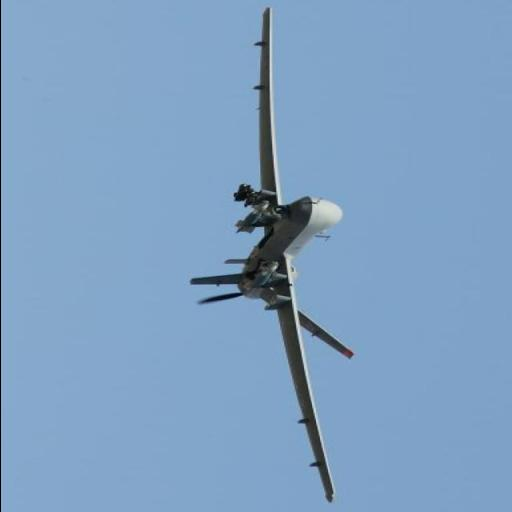uav: (178, 0, 384, 508)
